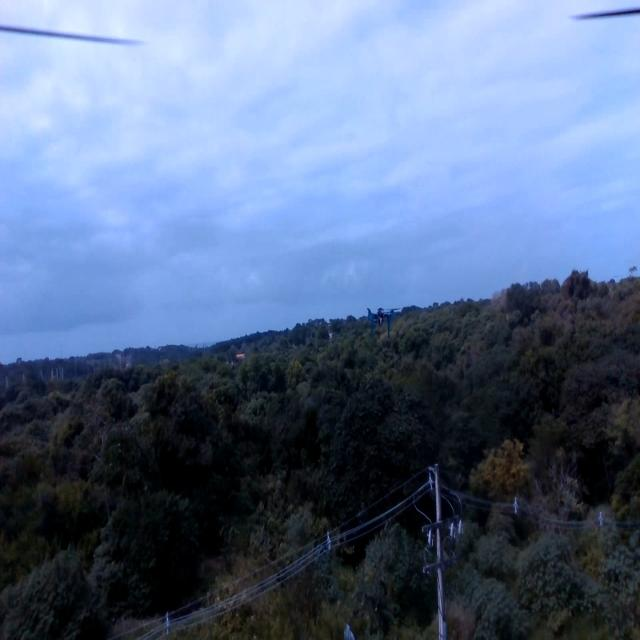-uav-: (354, 283, 411, 353)
